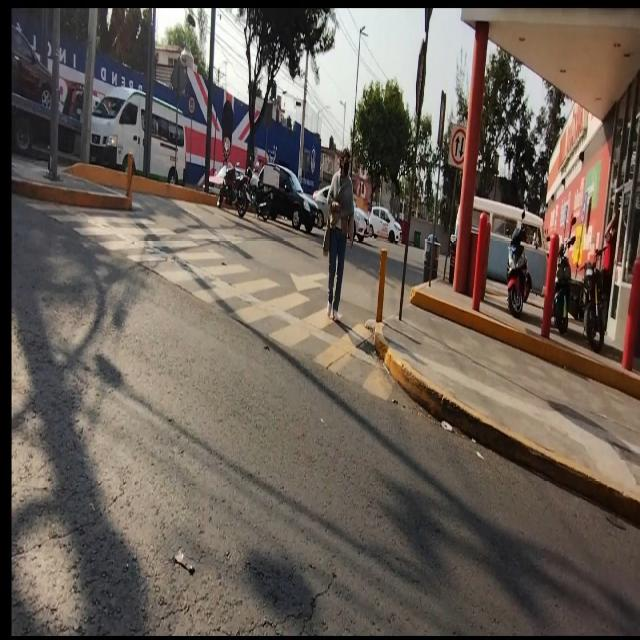adult: (326, 149, 354, 323)
